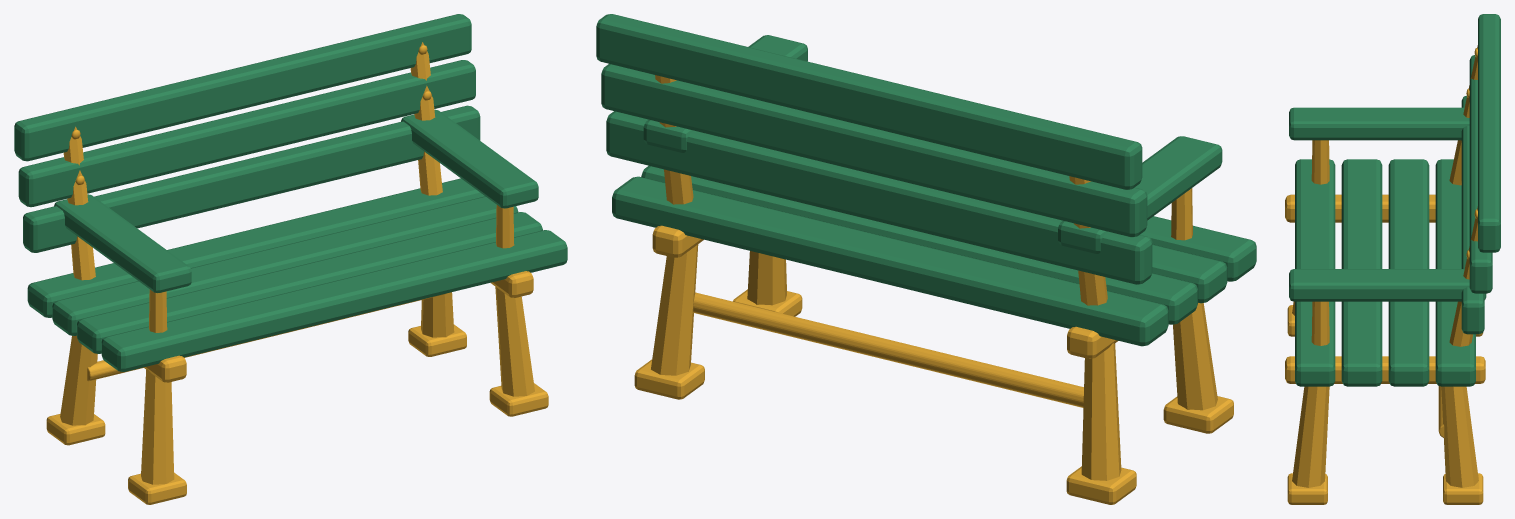
The model's file is bench.glb.
3 renders of one model, left to right at view 1: azimuth 30°, elevation 25°; view 2: azimuth 150°, elevation 25°; view 3: azimuth 270°, elevation 25°, orthographic. The views are drawn at different scales.
Visible parts, largest first — view 1: Boulevard_green.004, Boulevard_gold.006; view 2: Boulevard_green.004, Boulevard_gold.006; view 3: Boulevard_green.004, Boulevard_gold.006.
Part boxes in pixels (left/top/right/bottom): Boulevard_green.004: left=14, top=14, right=567, bottom=371; Boulevard_gold.006: left=46, top=42, right=548, bottom=504; Boulevard_green.004: left=596, top=14, right=1256, bottom=346; Boulevard_gold.006: left=634, top=75, right=1233, bottom=504; Boulevard_green.004: left=1289, top=14, right=1500, bottom=386; Boulevard_gold.006: left=1285, top=45, right=1485, bottom=504.
Size of the model in its own units: 1.53 by 1.01 by 0.6664.
